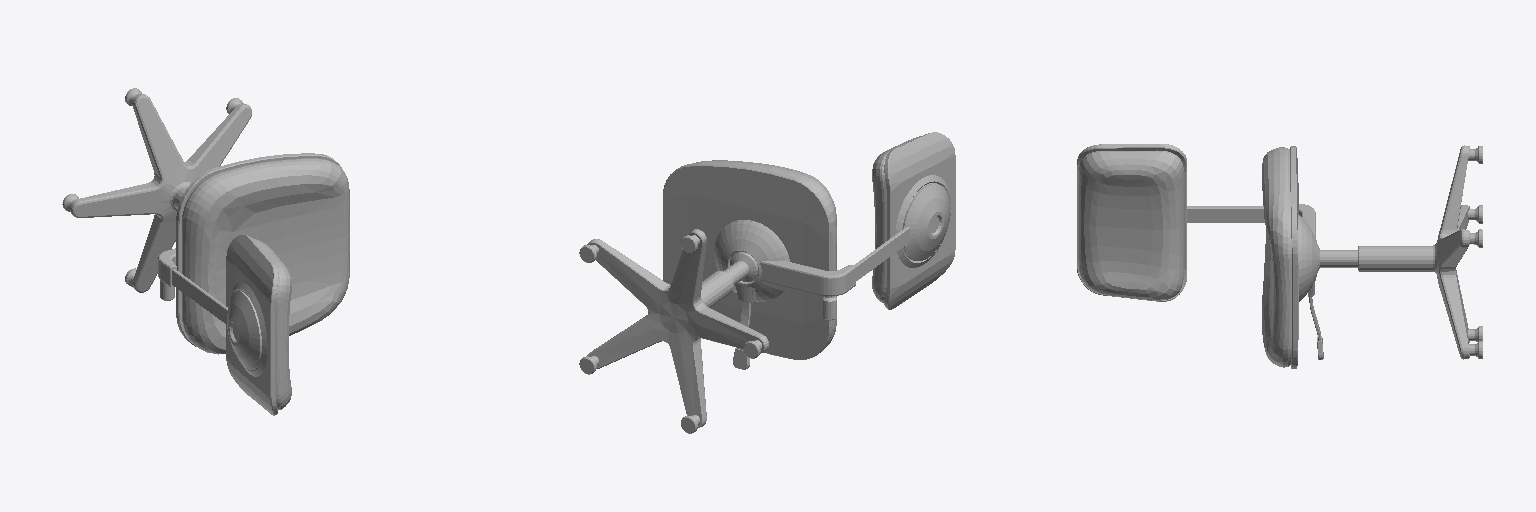
The model's file is rtx_aperturechair.obj.
3 views of the same model, side by side, from view 1: azimuth 30°, elevation 25°; view 2: azimuth 150°, elevation 25°; view 3: azimuth 270°, elevation 25° (orthographic).
Visible parts, largest first — view 1: SM_Furniture_Chair_Padded; view 2: SM_Furniture_Chair_Padded; view 3: SM_Furniture_Chair_Padded.
Part boxes in pixels (bbox=[...]): SM_Furniture_Chair_Padded: bbox=[62, 88, 349, 415]; SM_Furniture_Chair_Padded: bbox=[579, 132, 955, 433]; SM_Furniture_Chair_Padded: bbox=[1077, 144, 1482, 368].
Size of the model in its own units: 23.14 by 22.71 by 42.23.